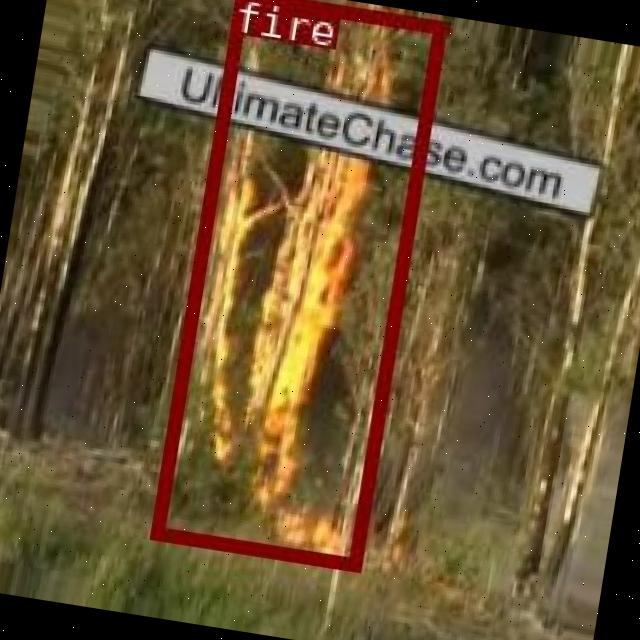fire: (148, 0, 445, 569)
